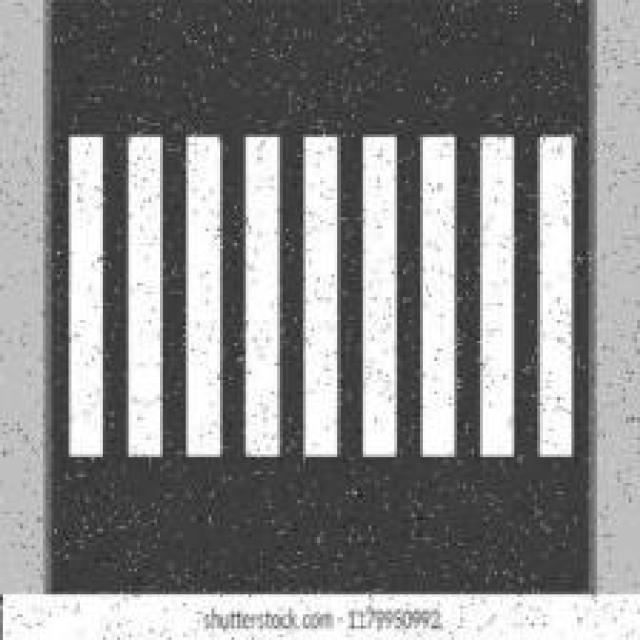crosswalk: (64, 130, 584, 462)
